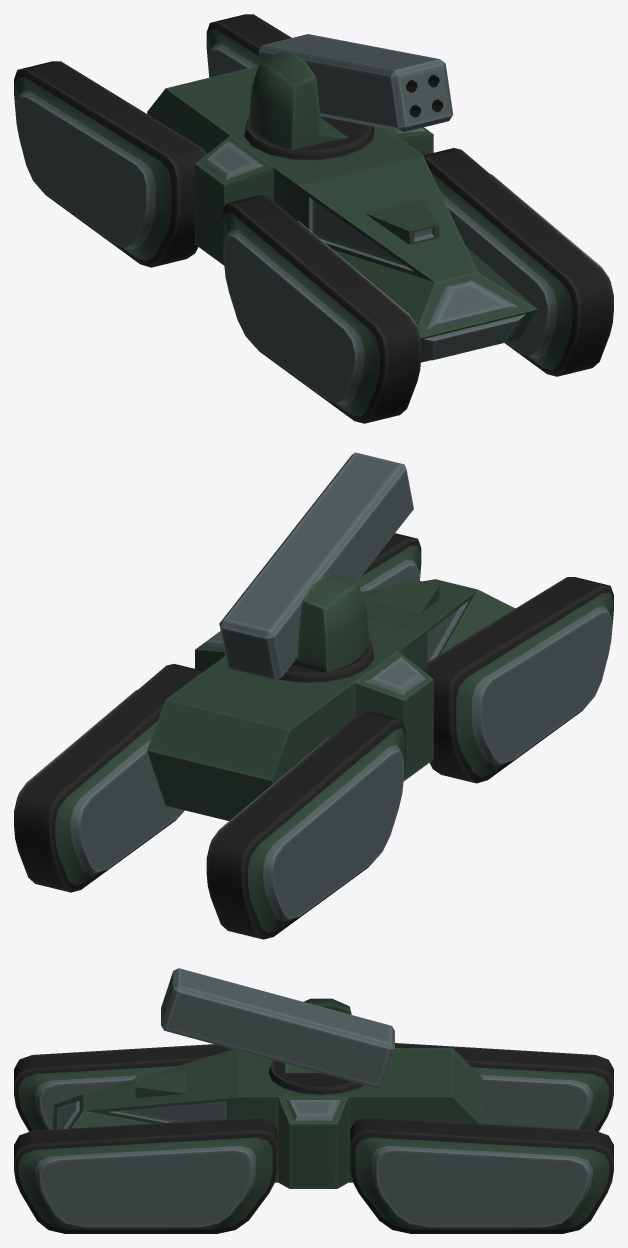
The model's file is tank_1.fbx.
3 renders of one model, top to bottom at view 1: azimuth 30°, elevation 25°; view 2: azimuth 150°, elevation 25°; view 3: azimuth 270°, elevation 25°, orthographic. The views are drawn at different scales.
Visible parts, largest first — view 1: tank_1; view 2: tank_1; view 3: tank_1.
Part boxes in pixels (x1,y1,x2,y2): tank_1: (14,14,613,423); tank_1: (14,452,613,939); tank_1: (14,968,613,1233).
Bounding box in the file's own units: 67.93 × 68.6 × 170.
1 material, 1 textured.
